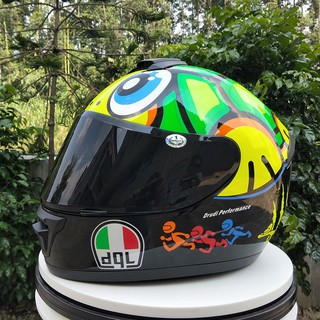helmet: (55, 80, 300, 263)
